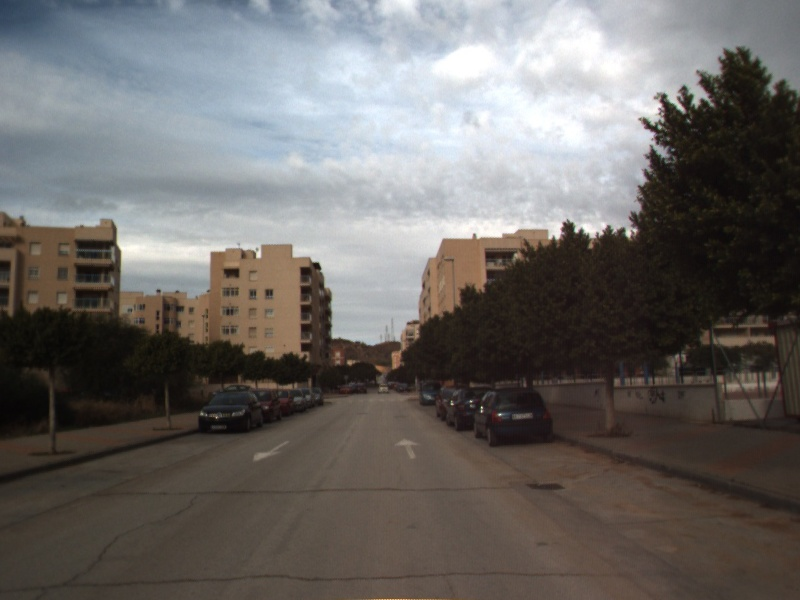STRAIGHT: (392, 436, 424, 461)
